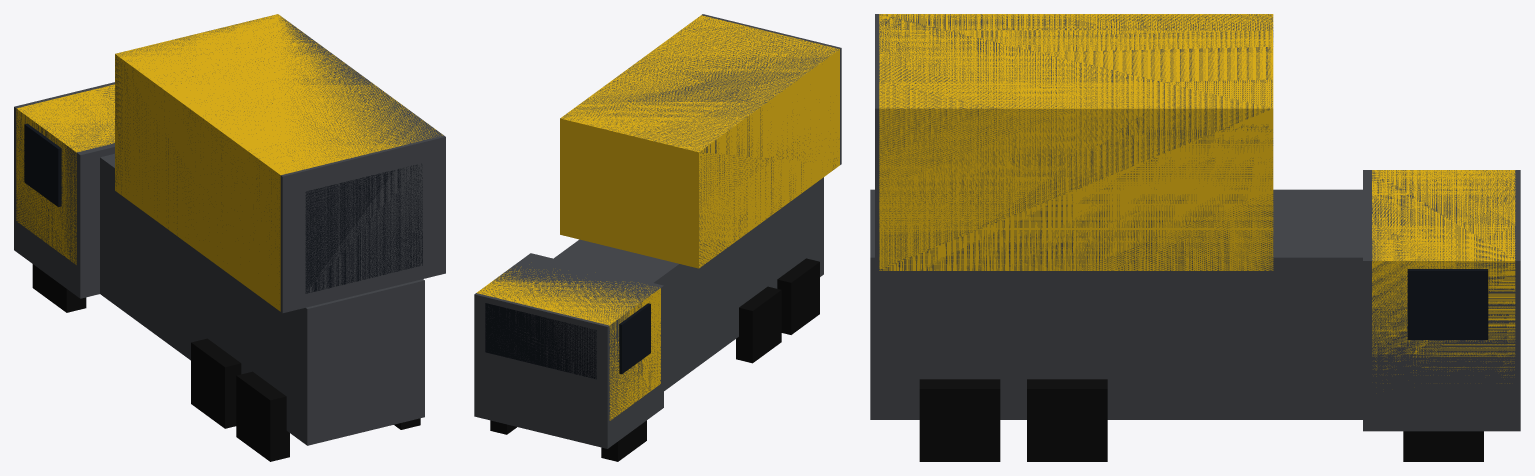
The model's file is bne_gse_catering_yellow.dae.
The picture shows the model from 3 angles, left to right: view 1: azimuth 30°, elevation 25°; view 2: azimuth 150°, elevation 25°; view 3: azimuth 270°, elevation 25°; orthographic projection. The views are drawn at different scales.
Parts seen in each view (by area): view 1: bne_gse_catering_yellow160, Colmesh_bne_gse_catering_yellow-1, bne_gse_catering_yellow16; view 2: bne_gse_catering_yellow160, Colmesh_bne_gse_catering_yellow-1, bne_gse_catering_yellow16; view 3: bne_gse_catering_yellow160, Colmesh_bne_gse_catering_yellow-1, bne_gse_catering_yellow16.
Part boxes in pixels (bbox=[...]): bne_gse_catering_yellow160: bbox=[16, 14, 442, 449]; Colmesh_bne_gse_catering_yellow-1: bbox=[14, 14, 445, 445]; bne_gse_catering_yellow16: bbox=[32, 264, 420, 461]; bne_gse_catering_yellow160: bbox=[476, 15, 839, 450]; Colmesh_bne_gse_catering_yellow-1: bbox=[474, 14, 841, 448]; bne_gse_catering_yellow16: bbox=[490, 258, 819, 461]; bne_gse_catering_yellow160: bbox=[870, 14, 1515, 461]; Colmesh_bne_gse_catering_yellow-1: bbox=[870, 14, 1520, 431]; bne_gse_catering_yellow16: bbox=[919, 379, 1483, 461].
Bounding box in the file's own units: 2.5 × 7.26 × 4.4.
